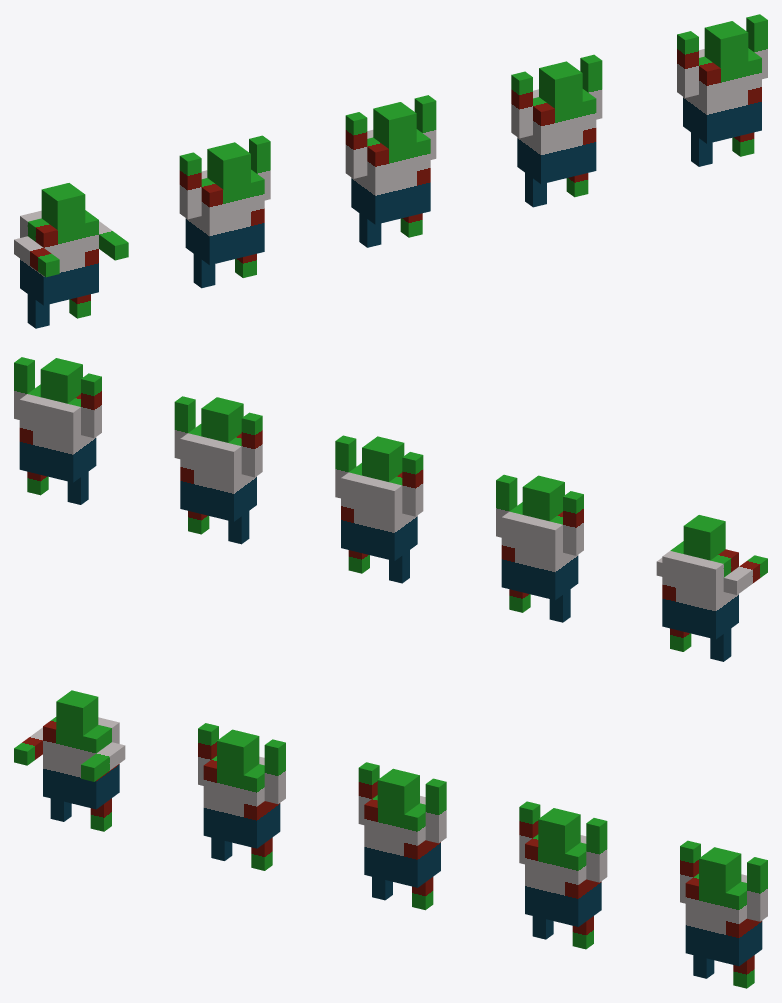
Rendered from champion_zombie.fbx.
The picture shows the model from 3 angles, top to bottom: view 1: azimuth 30°, elevation 25°; view 2: azimuth 150°, elevation 25°; view 3: azimuth 330°, elevation 25°; orthographic projection. The views are drawn at different scales.
Visible parts, largest first — view 1: move_1, move_0, move_2, finish, idle_0; view 2: move_0, move_2, move_1, finish, idle_0; view 3: move_2, move_0, move_1, finish, idle_0.
Boxes of the visible parts, x1,y1,x2,y2 form: move_1: [345, 95, 436, 247]; move_0: [179, 135, 270, 288]; move_2: [511, 54, 602, 207]; finish: [677, 14, 767, 166]; idle_0: [14, 183, 128, 328]; move_0: [496, 474, 583, 622]; move_2: [174, 396, 262, 544]; move_1: [335, 435, 423, 583]; finish: [14, 357, 101, 504]; idle_0: [656, 515, 767, 661]; move_2: [519, 801, 607, 949]; move_0: [198, 723, 285, 870]; move_1: [358, 762, 446, 910]; finish: [680, 840, 767, 988]; idle_0: [14, 690, 125, 831].
Size of the model in its own units: 54 by 9 by 5.
